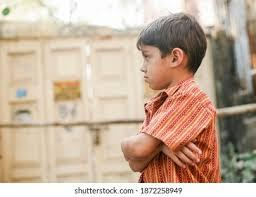Human: (114, 14, 235, 197)
